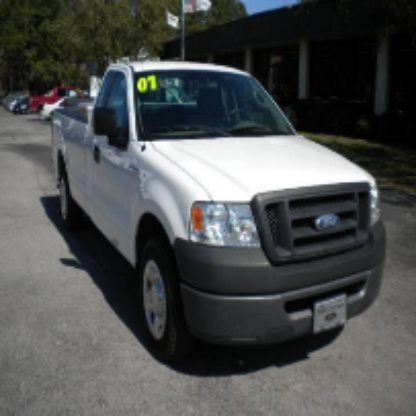Vehicle: (50, 57, 387, 372)
